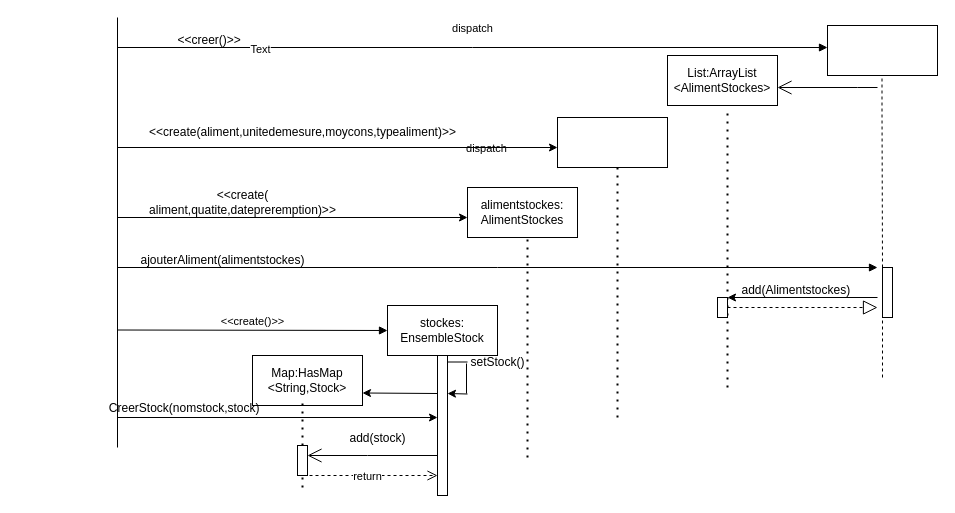
This 955x513 diagram has some shape labels left out. Each missing label, with the centre of its shape:
"aliment:Aliments" belongs at [612,142].
"stock: Stock" belongs at [882,50].
